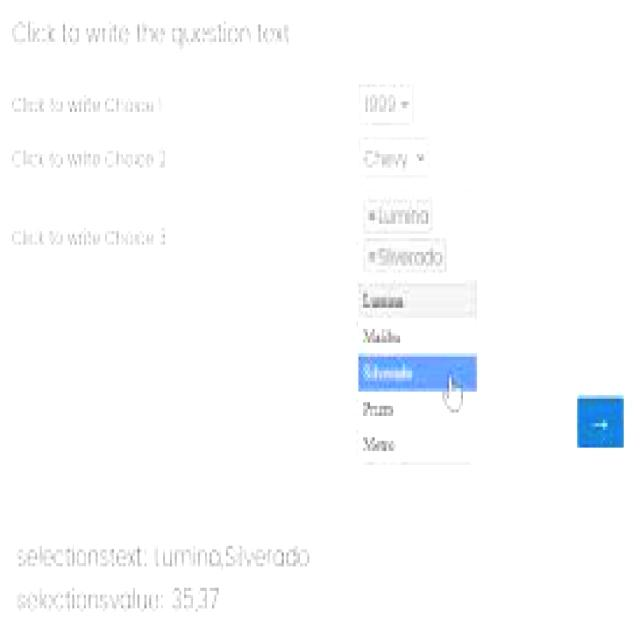button: (575, 398, 624, 448)
dropdownMenu: (356, 140, 480, 471), (358, 84, 413, 124)
menuItem: (361, 188, 439, 235), (360, 283, 470, 315), (363, 239, 447, 275), (361, 357, 420, 388), (360, 321, 406, 348), (363, 432, 403, 456), (361, 395, 400, 417)
